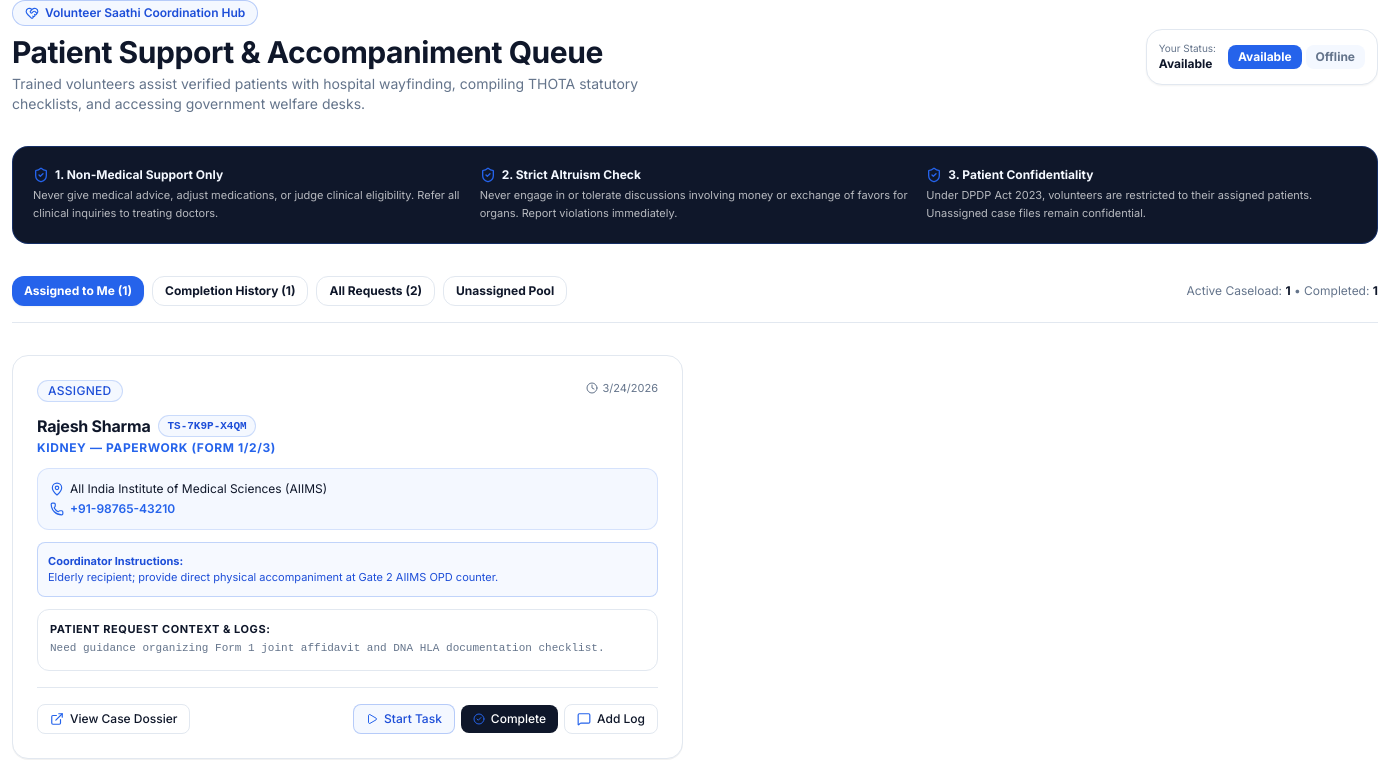
Scenario: Volunteer Portal & Least Privilege Security Suite › URL Manipulation & Direct Database Access Protection › blocks volunteers from viewing unassigned pool from tab switcher
Click the button "Unassigned Pool" at (505, 291), box [443, 276, 567, 306]
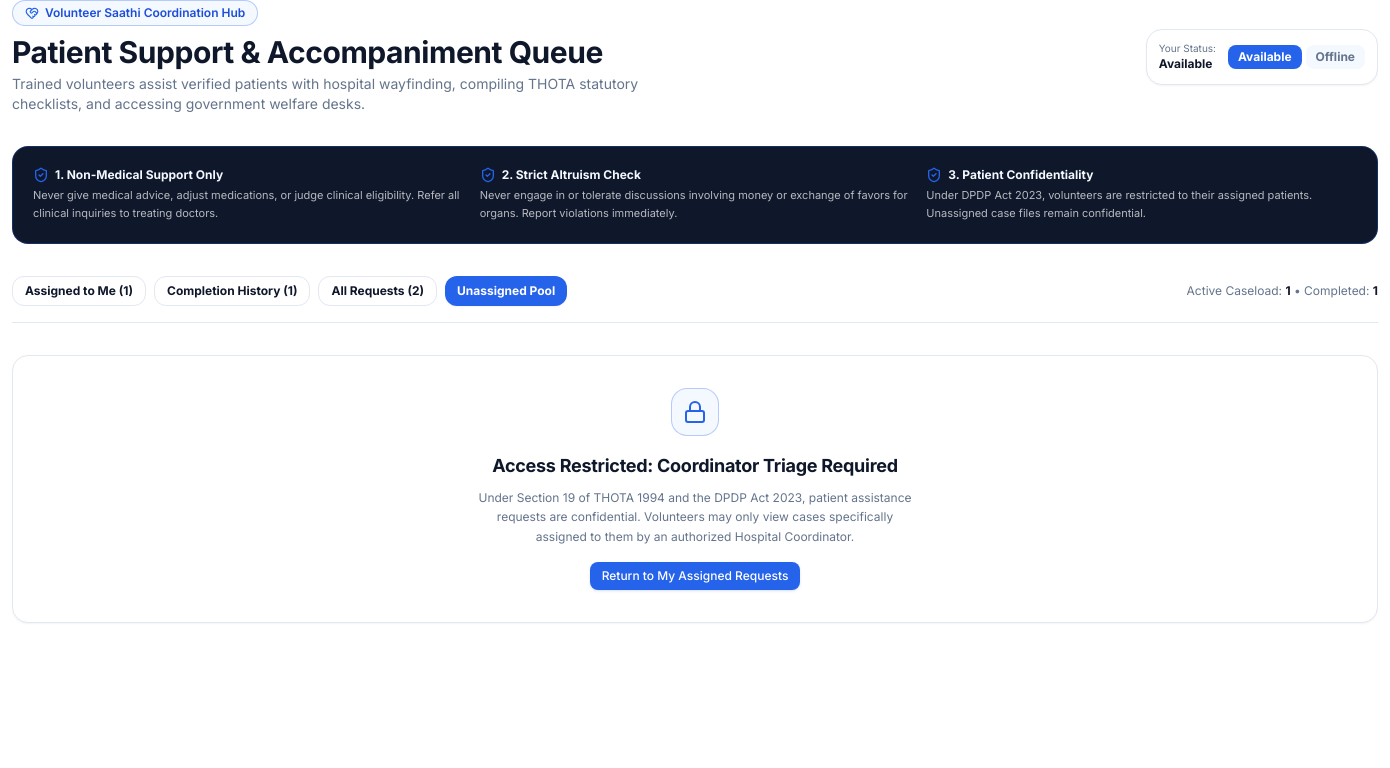
Now the heading "Access Restricted: Coordinator Triage Required" is shown, box [471, 452, 919, 480]
Now the text "Volunteers may only view cases specifically assigned to them" is shown, box [478, 490, 912, 544]
